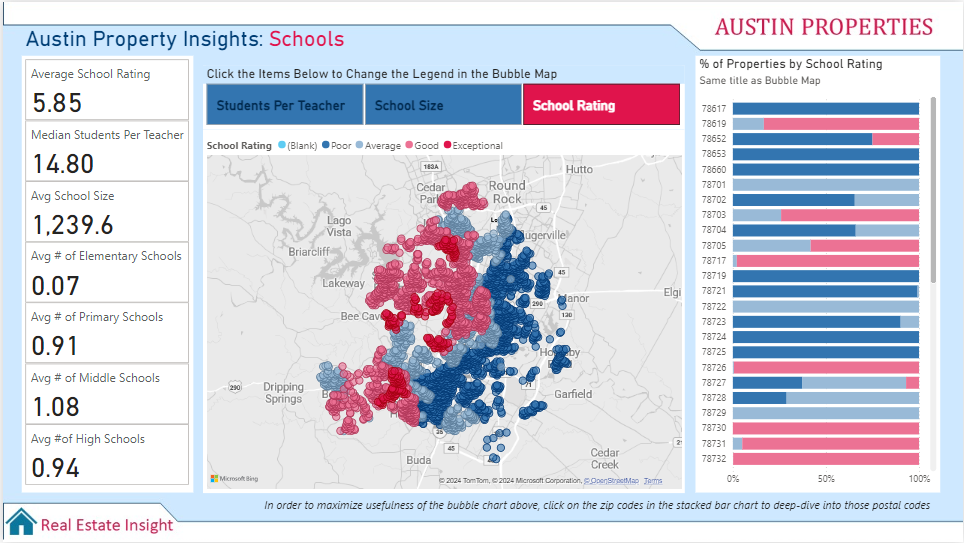

The page's visual inventory and layout, read from the dashboard file:
{"tool":"powerbi","page":{"name":"Schools","canvas":[1280,720],"ordinal":3},"visuals":[{"type":"cardVisual","fields":{"Data":["Avg(schools.avgSchoolRating)","Avg(schools.MedianStudentsPerTeacher)","Avg(schools.avgSchoolSize)","Avg(schools.numOfElementarySchools)","Avg(schools.numOfPrimarySchools)","Avg(schools.numOfMiddleSchools)","Avg(schools.numOfHighSchools)"]},"box":[25,71.2,228.8,582.5],"z":0,"group":"g1"},{"type":"map","fields":{"Series":["schools.Grouped_schools_rating"],"Y":["location.latitude"],"X":["location.longitude"]},"box":[266.2,168.7,642.5,485],"z":1000,"group":"g1"},{"type":"advancedSlicerVisual","title":"Click the Items Below to Change the Legend in the Bubble Map","fields":{"Values":["Parameter (School Groups).Parameter (School Groups)"]},"box":[266.2,83.7,642.5,85],"z":2000,"group":"g1"},{"type":"hundredPercentStackedBarChart","fields":{"Series":["schools.Grouped_schools_rating"],"Y":["_measures.Property Count"],"Category":["location.zipcode"]},"box":[923.8,71.2,326.2,582.5],"z":3000,"group":"g1"},{"type":"textbox","box":[343.8,653.7,906.2,35],"z":4000,"group":"g1"},{"type":"group","id":"g1","title":"Schools","box":[25,26.2,1225,662.5],"z":4002},{"type":"textbox","box":[25,26.2,642.5,68.8],"z":5000,"group":"g1"}]}

Visuals, with their boxes in screenshot pixels (x1, y1, x2, y2), scaled from the page's 1280x720 canvas onto the 964x543 screenshot:
cardVisual - Avg(schools.avgSchoolRating) x Avg(schools.MedianStudentsPerTeacher): {"x1": 19, "y1": 54, "x2": 191, "y2": 493}
map - schools.Grouped_schools_rating x location.latitude: {"x1": 200, "y1": 127, "x2": 684, "y2": 493}
"Click the Items Below to Change the Legend in the Bubble Map" advancedSlicerVisual: {"x1": 200, "y1": 63, "x2": 684, "y2": 127}
hundredPercentStackedBarChart - schools.Grouped_schools_rating x _measures.Property Count: {"x1": 696, "y1": 54, "x2": 941, "y2": 493}
textbox: {"x1": 259, "y1": 493, "x2": 941, "y2": 519}
"Schools" group: {"x1": 19, "y1": 20, "x2": 941, "y2": 519}
textbox: {"x1": 19, "y1": 20, "x2": 503, "y2": 72}
